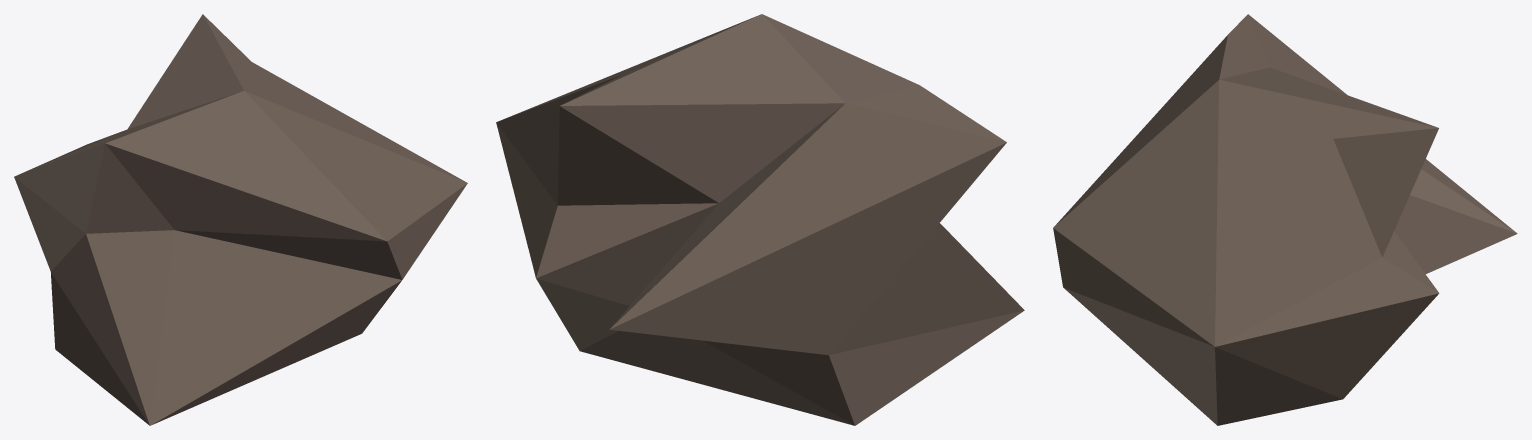
File: Piedra_3.fbx
3 renders of one model, left to right at view 1: azimuth 30°, elevation 25°; view 2: azimuth 150°, elevation 25°; view 3: azimuth 270°, elevation 25°, orthographic. The views are drawn at different scales.
Parts seen in each view (by area): view 1: pPlatonic1; view 2: pPlatonic1; view 3: pPlatonic1.
Boxes of the visible parts, x1,y1,x2,y2 form: pPlatonic1: (14,14,467,425); pPlatonic1: (496,14,1024,425); pPlatonic1: (1053,14,1517,425).
Bounding box in the file's own units: 2.98 × 1.76 × 2.59.
